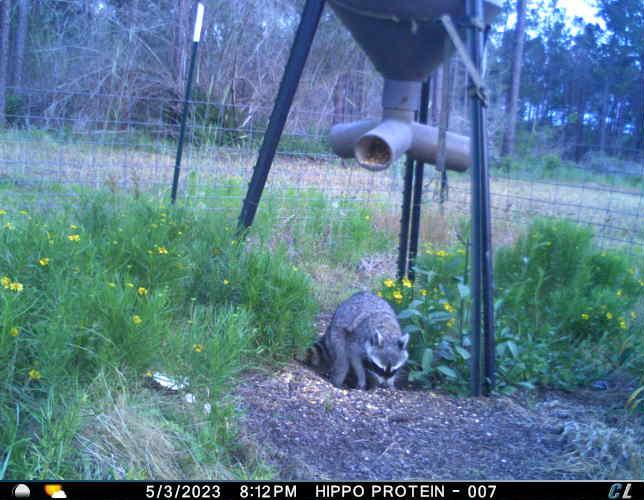Raccoon: (294, 286, 414, 392)
